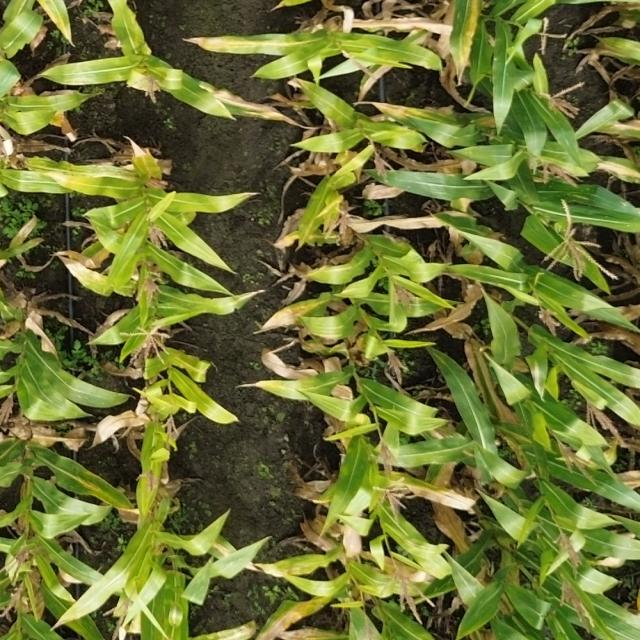gray-leaf-spot: (520, 132, 629, 225)
northern-leaf-blight: (238, 532, 349, 640), (368, 456, 483, 532), (181, 74, 302, 144), (189, 27, 316, 91), (50, 242, 126, 294)
southern-leaf-blight: (45, 446, 132, 538), (40, 364, 120, 436)
